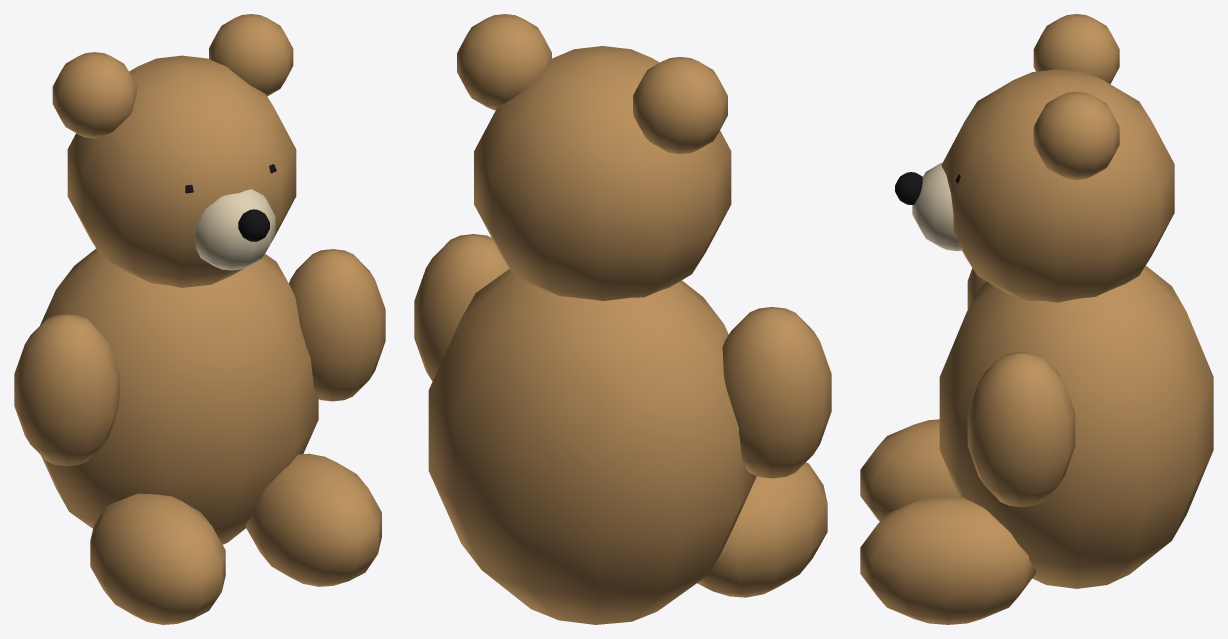
File: teddy.glb
3 views of the same model, side by side, from view 1: azimuth 30°, elevation 25°; view 2: azimuth 150°, elevation 25°; view 3: azimuth 270°, elevation 25° (orthographic). The views are drawn at different scales.
Parts seen in each view (by area): view 1: Part0, Part1, Part6, Part10, Part5, Part9, Part4, Part8, Part2, Part3; view 2: Part0, Part1, Part5, Part6, Part4, Part9, Part8; view 3: Part0, Part1, Part10, Part9, Part6, Part8, Part4, Part2, Part3.
Boxes of the visible parts, bbox=[...] form: Part0: bbox=[40, 248, 318, 544]; Part1: bbox=[67, 55, 296, 287]; Part6: bbox=[90, 493, 225, 624]; Part10: bbox=[246, 453, 381, 586]; Part5: bbox=[14, 314, 119, 466]; Part9: bbox=[289, 249, 385, 401]; Part4: bbox=[52, 52, 136, 138]; Part8: bbox=[209, 14, 293, 96]; Part2: bbox=[195, 189, 275, 270]; Part3: bbox=[238, 209, 269, 241]; Part0: bbox=[428, 269, 756, 624]; Part1: bbox=[474, 46, 731, 301]; Part5: bbox=[722, 307, 831, 478]; Part6: bbox=[697, 462, 827, 597]; Part4: bbox=[633, 57, 727, 154]; Part9: bbox=[414, 234, 509, 381]; Part8: bbox=[457, 14, 551, 110]; Part0: bbox=[939, 265, 1213, 588]; Part1: bbox=[941, 69, 1174, 302]; Part10: bbox=[860, 496, 1035, 624]; Part9: bbox=[967, 352, 1075, 507]; Part6: bbox=[860, 419, 958, 521]; Part8: bbox=[1033, 91, 1119, 179]; Part4: bbox=[1033, 14, 1119, 83]; Part2: bbox=[912, 162, 962, 251]; Part3: bbox=[895, 172, 922, 204].
Bounding box in the file's own units: 0.2285 × 0.314 × 0.1924.
